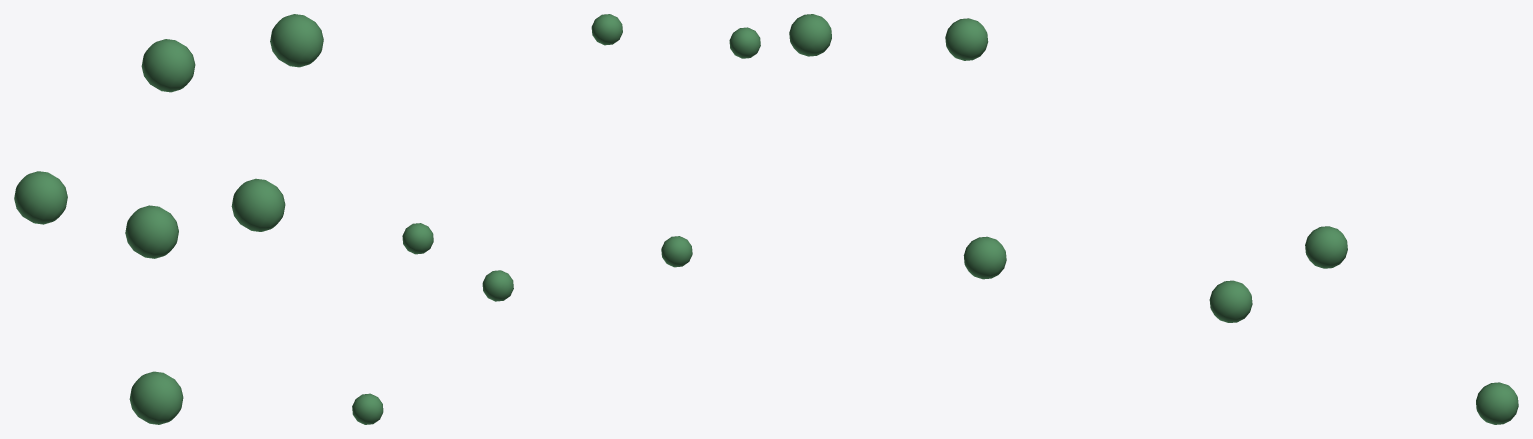
3 views of the same model, side by side, from view 1: azimuth 30°, elevation 25°; view 2: azimuth 150°, elevation 25°; view 3: azimuth 270°, elevation 25° (orthographic). The views are drawn at different scales.
Parts seen in each view (by area): view 1: 左侧腋淋巴结前群; view 2: 左侧腋淋巴结前群; view 3: 左侧腋淋巴结前群.
Boxes of the visible parts, left/top/right/bottom form: 左侧腋淋巴结前群: left=14, top=14, right=323, bottom=424; 左侧腋淋巴结前群: left=352, top=14, right=760, bottom=424; 左侧腋淋巴结前群: left=789, top=14, right=1518, bottom=424.
Size of the model in its own units: 0.0228 by 0.0365 by 0.0646.
